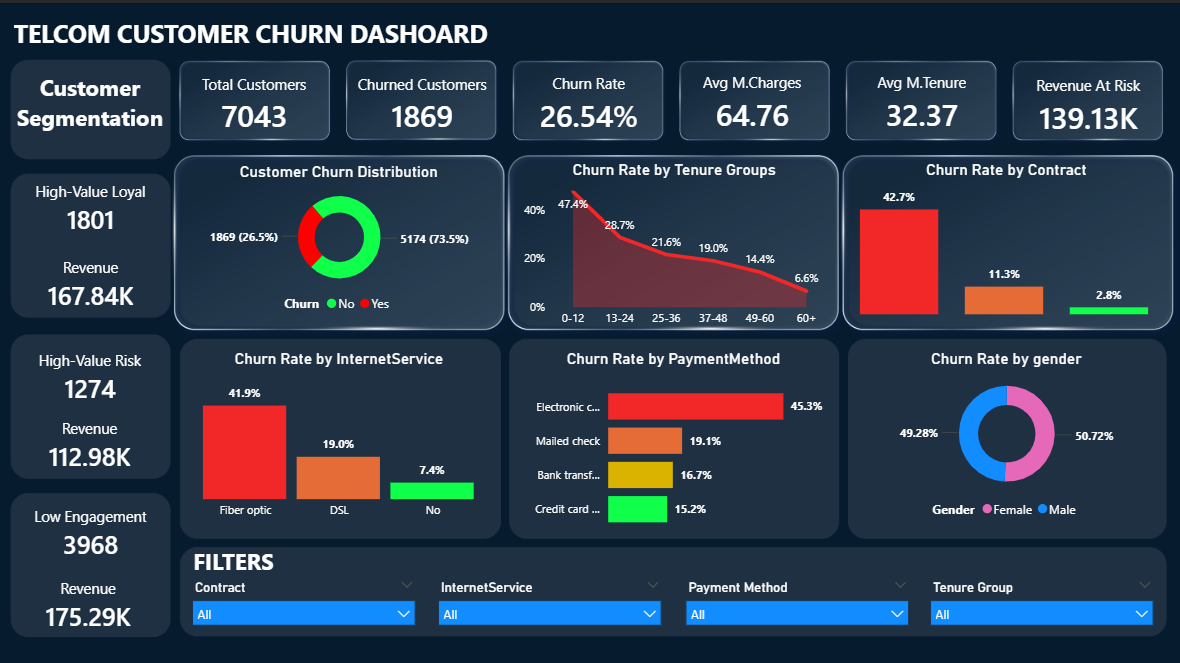

The page's visual inventory and layout, read from the dashboard file:
{"tool":"powerbi","page":{"name":"Page 1","canvas":[1280,720],"ordinal":0},"visuals":[{"type":"donutChart","title":"Customer Churn Distribution","fields":{"Category":["customer_churn.Churn"],"Y":["CountNonNull(customer_churn.customerID)"]},"box":[196.8,172.4,341.6,172.4],"z":0},{"type":"lineChart","title":"Churn Rate by Tenure Groups","fields":{"Category":["customer_churn.Tenure Group"],"Y":["customer_churn.Churn Rate"]},"box":[562.8,170.8,336.7,188.7],"z":1000},{"type":"clusteredColumnChart","fields":{"Category":["customer_churn.Contract"],"Y":["customer_churn.Churn Rate"]},"box":[927.1,170.8,328.6,172.4],"z":2000},{"type":"cardVisual","fields":{"Data":["customer_churn.Total Customers"]},"box":[176.4,48.6,200.7,122.1],"z":3000},{"type":"cardVisual","fields":{"Data":["customer_churn.Churn Rate"]},"box":[538.6,48.6,200,121.4],"z":4000},{"type":"cardVisual","fields":{"Data":["customer_churn.Average Monthly Charges"]},"box":[715,47.9,200,122.1],"z":5000},{"type":"cardVisual","fields":{"Data":["customer_churn.Average Tenure"]},"box":[899.3,47.9,200,122.1],"z":6000},{"type":"cardVisual","fields":{"Data":["customer_churn.Revenue At Risk"]},"box":[1080,50,200,122.5],"z":7000},{"type":"cardVisual","fields":{"Data":["customer_churn.Churned Customers"]},"box":[357.1,48.6,200,122.1],"z":8000},{"type":"clusteredColumnChart","fields":{"Category":["customer_churn.InternetService"],"Y":["customer_churn.Churn Rate"]},"box":[174,375.7,387.1,191.9],"z":9000},{"type":"clusteredBarChart","fields":{"Category":["customer_churn.PaymentMethod"],"Y":["customer_churn.Churn Rate"]},"box":[561.2,375.7,338.3,208.2],"z":10000},{"type":"donutChart","fields":{"Y":["customer_churn.Churn Rate"],"Category":["customer_churn.gender"]},"box":[927.1,375.7,328.6,191.9],"z":11000},{"type":"cardVisual","fields":{"Data":["customer_churn.Total Customers"]},"box":[6.5,359.5,182.2,86.2],"z":12000},{"type":"cardVisual","fields":{"Data":["customer_churn.Total Customers"]},"box":[8.1,170.8,180.5,102.5],"z":13000},{"type":"cardVisual","fields":{"Data":["customer_churn.Total Customers"]},"box":[8.1,523.7,180.5,102.5],"z":14000},{"type":"cardVisual","fields":{"Data":["customer_churn.Segment Revenue"]},"box":[9.8,258.6,177.3,91.1],"z":15000},{"type":"cardVisual","fields":{"Data":["customer_churn.Segment Revenue"]},"box":[8.1,427.8,178.9,102.5],"z":16000},{"type":"cardVisual","fields":{"Data":["customer_churn.Segment Revenue"]},"box":[6.5,601.8,178.9,102.5],"z":17000},{"type":"slicer","fields":{"Values":["customer_churn.Contract"]},"box":[198.4,619.7,261.9,86.2],"z":18000},{"type":"slicer","fields":{"Values":["customer_churn.InternetService"]},"box":[465.2,619.7,261.9,86.2],"z":19000},{"type":"slicer","fields":{"Values":["customer_churn.PaymentMethod"]},"box":[733.6,619.7,261.9,86.2],"z":20000},{"type":"slicer","fields":{"Values":["customer_churn.Tenure Group"]},"box":[998.7,619.7,261.9,86.2],"z":21000},{"type":"textbox","box":[205.7,584.3,301.4,47.1],"z":22000},{"type":"textbox","box":[1.6,69.9,191.9,136.6],"z":23000},{"type":"textbox","box":[10,10,665.5,47.3],"z":24000}]}

Visuals, with their boxes in screenshot pixels (x1, y1, x2, y2), scaled from the page's 1280x720 canvas onto the 1180x663 screenshot:
"Customer Churn Distribution" donutChart: [x1=181, y1=159, x2=496, y2=318]
"Churn Rate by Tenure Groups" lineChart: [x1=519, y1=157, x2=829, y2=331]
clusteredColumnChart - customer_churn.Contract x customer_churn.Churn Rate: [x1=855, y1=157, x2=1158, y2=316]
cardVisual - customer_churn.Total Customers: [x1=163, y1=45, x2=348, y2=157]
cardVisual - customer_churn.Churn Rate: [x1=497, y1=45, x2=681, y2=157]
cardVisual - customer_churn.Average Monthly Charges: [x1=659, y1=44, x2=844, y2=157]
cardVisual - customer_churn.Average Tenure: [x1=829, y1=44, x2=1013, y2=157]
cardVisual - customer_churn.Revenue At Risk: [x1=996, y1=46, x2=1179, y2=159]
cardVisual - customer_churn.Churned Customers: [x1=329, y1=45, x2=514, y2=157]
clusteredColumnChart - customer_churn.InternetService x customer_churn.Churn Rate: [x1=160, y1=346, x2=517, y2=523]
clusteredBarChart - customer_churn.PaymentMethod x customer_churn.Churn Rate: [x1=517, y1=346, x2=829, y2=538]
donutChart - customer_churn.Churn Rate x customer_churn.gender: [x1=855, y1=346, x2=1158, y2=523]
cardVisual - customer_churn.Total Customers: [x1=6, y1=331, x2=174, y2=410]
cardVisual - customer_churn.Total Customers: [x1=7, y1=157, x2=174, y2=252]
cardVisual - customer_churn.Total Customers: [x1=7, y1=482, x2=174, y2=577]
cardVisual - customer_churn.Segment Revenue: [x1=9, y1=238, x2=172, y2=322]
cardVisual - customer_churn.Segment Revenue: [x1=7, y1=394, x2=172, y2=488]
cardVisual - customer_churn.Segment Revenue: [x1=6, y1=554, x2=171, y2=649]
slicer - customer_churn.Contract: [x1=183, y1=571, x2=424, y2=650]
slicer - customer_churn.InternetService: [x1=429, y1=571, x2=670, y2=650]
slicer - customer_churn.PaymentMethod: [x1=676, y1=571, x2=918, y2=650]
slicer - customer_churn.Tenure Group: [x1=921, y1=571, x2=1162, y2=650]
textbox: [x1=190, y1=538, x2=467, y2=581]
textbox: [x1=1, y1=64, x2=178, y2=190]
textbox: [x1=9, y1=9, x2=623, y2=53]
